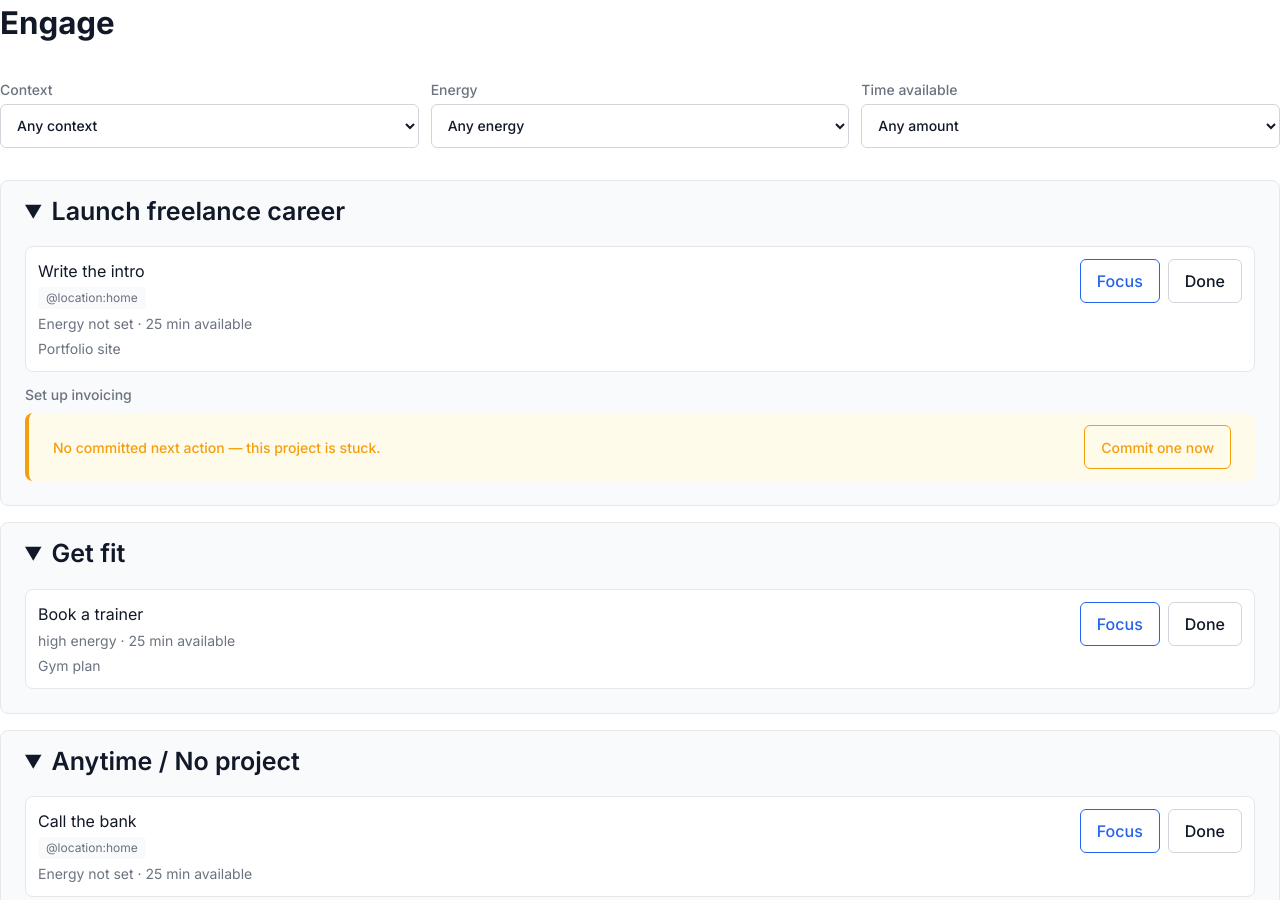
EngageBoard › narrows visible rows with the energy filter
The image size is (1280, 900).
Select "high" in the dropdown named "Filter by energy" at (640, 126), box [431,104,849,148]
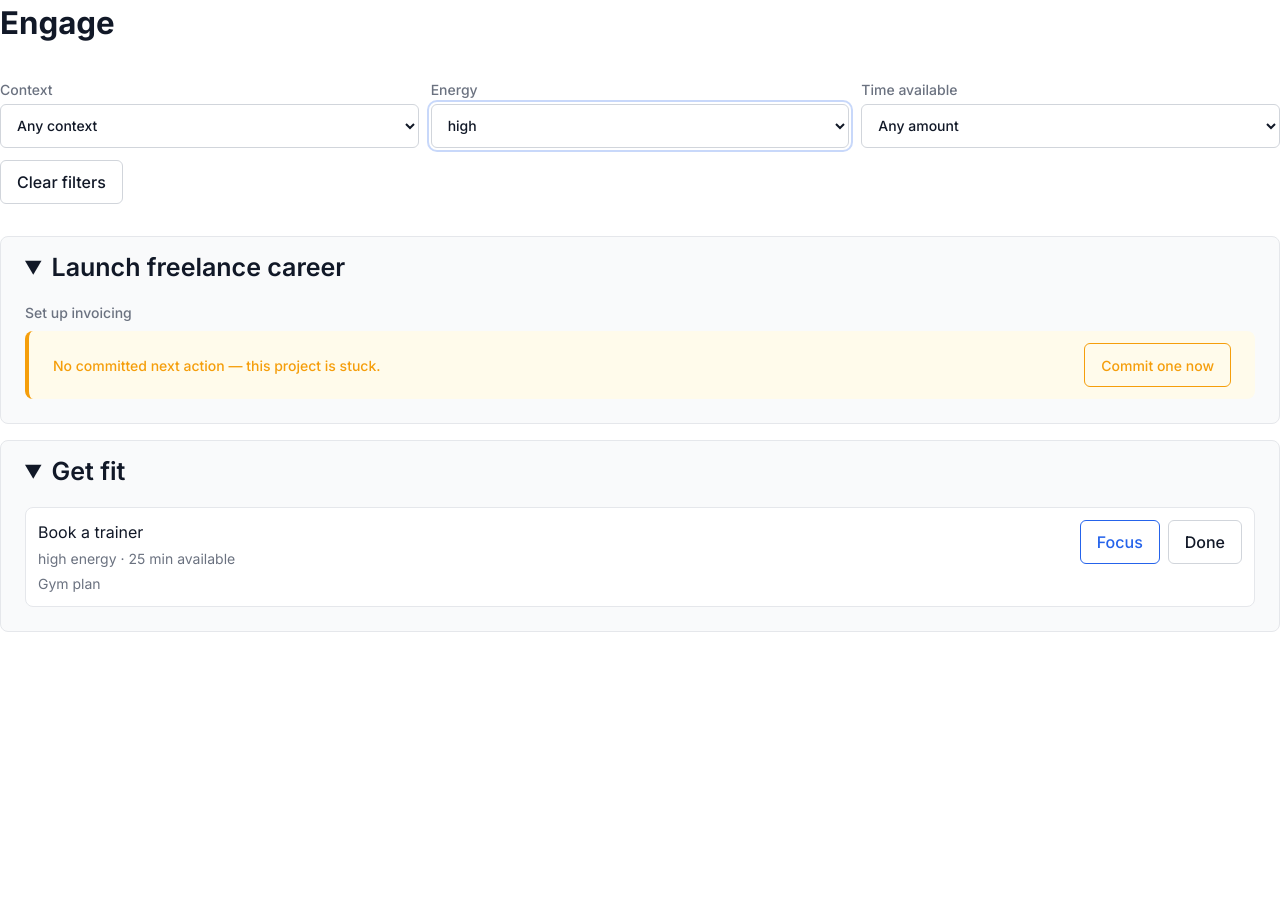
Check: the text "Book a trainer" is shown, box [38,522,143,542]
Check: the text "Write the intro" is gone
Check: the text "Call the bank" is gone
